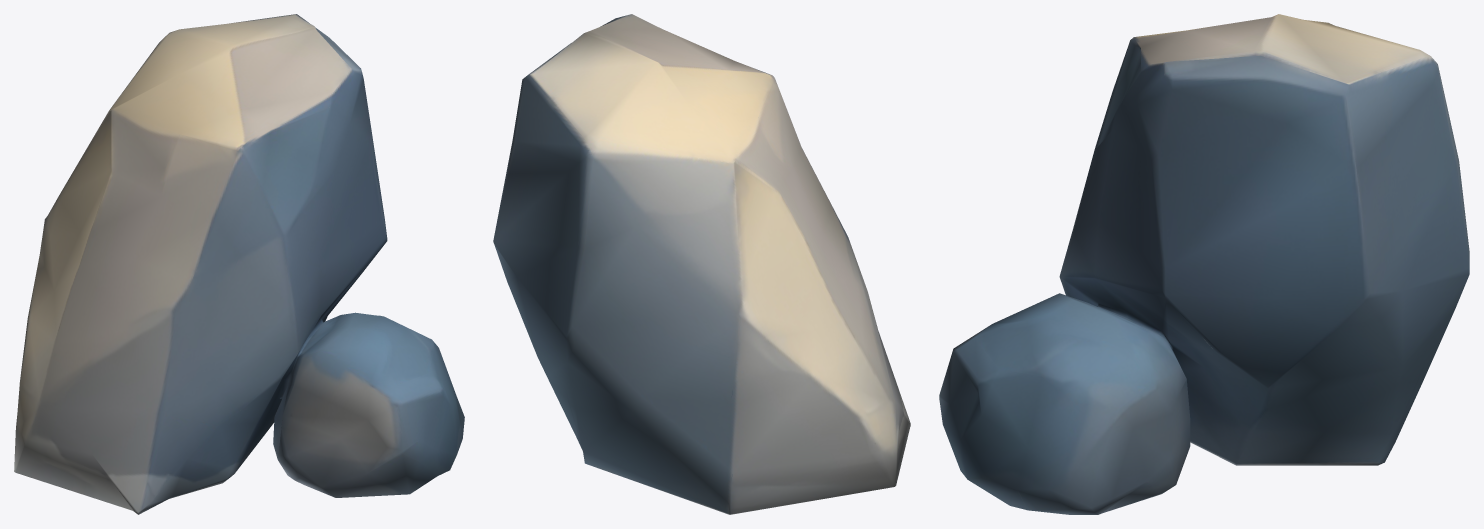
3 views of the same model, side by side, from view 1: azimuth 30°, elevation 25°; view 2: azimuth 150°, elevation 25°; view 3: azimuth 270°, elevation 25° (orthographic). The views are drawn at different scales.
Parts seen in each view (by area): view 1: coast-rock-3; view 2: coast-rock-3; view 3: coast-rock-3.
Boxes of the visible parts, x1,y1,x2,y2 form: coast-rock-3: (14,14,464,514); coast-rock-3: (493,14,910,514); coast-rock-3: (939,14,1469,514).
Bounding box in the file's own units: 0.2815 × 0.2798 × 0.3016.
Materials: 1 (1 with a texture image).
